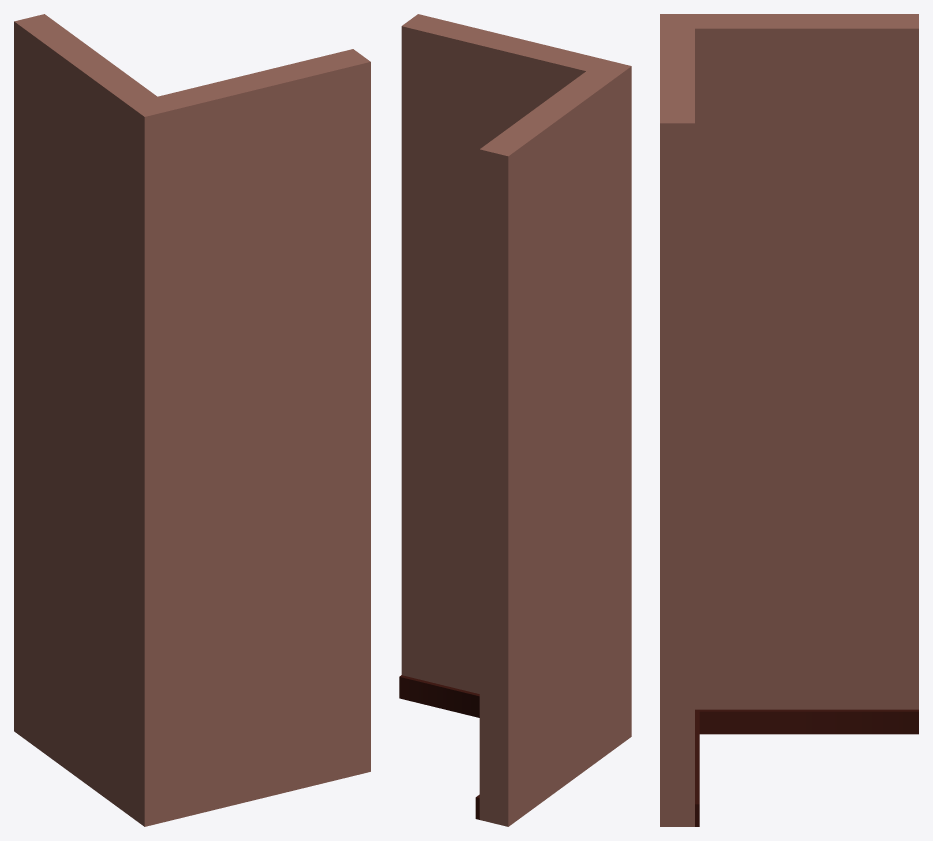
Rendered from T_AngleExt_02.fbx.
3 renders of one model, left to right at view 1: azimuth 30°, elevation 25°; view 2: azimuth 150°, elevation 25°; view 3: azimuth 270°, elevation 25°, orthographic. The views are drawn at different scales.
Parts seen in each view (by area): view 1: T_AngleExt_02; view 2: T_AngleExt_02; view 3: T_AngleExt_02.
Boxes of the visible parts, x1,y1,x2,y2 form: T_AngleExt_02: [14, 14, 370, 826]; T_AngleExt_02: [399, 14, 631, 826]; T_AngleExt_02: [660, 14, 918, 826].
Size of the model in its own units: 100 by 300 by 100.
